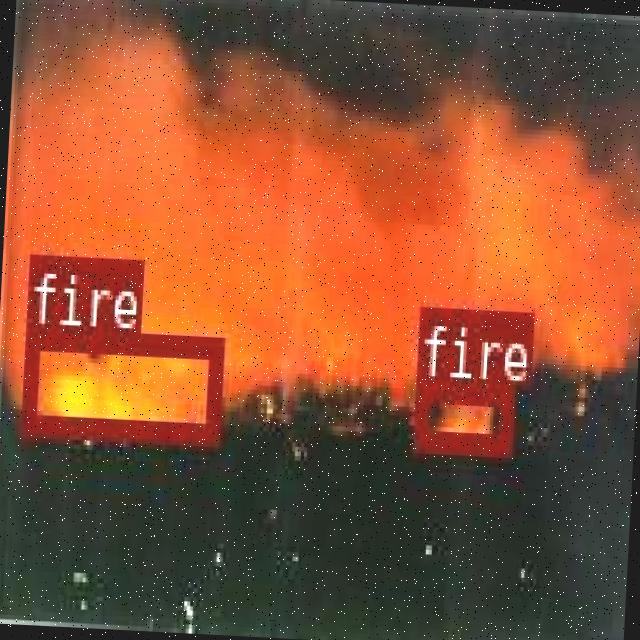fire: (20, 326, 222, 441), (412, 376, 512, 450)
